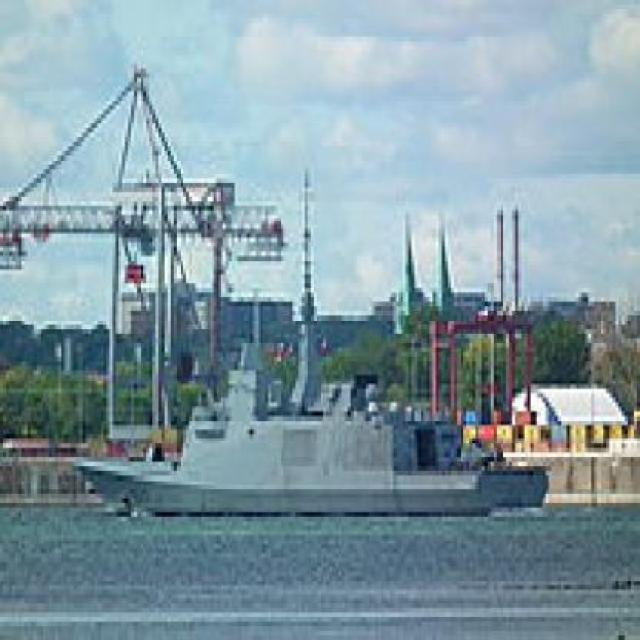warship2: (62, 317, 540, 523)
